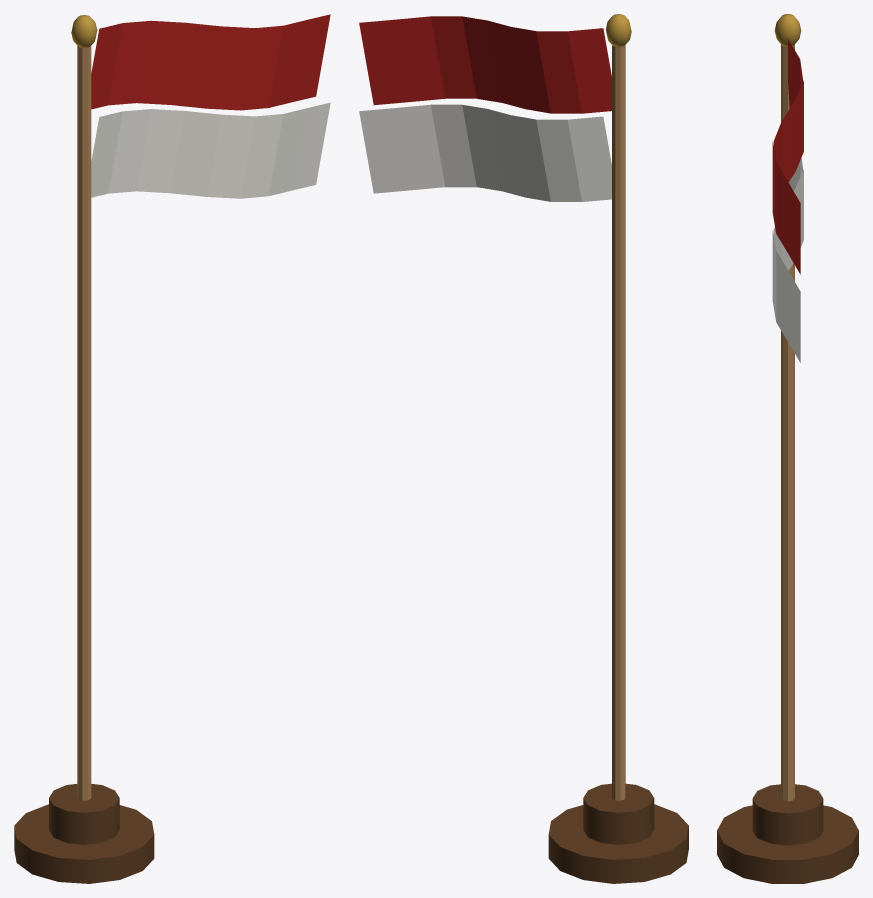
Rendered from flag_stand.glb.
3 views of the same model, side by side, from view 1: azimuth 30°, elevation 25°; view 2: azimuth 150°, elevation 25°; view 3: azimuth 270°, elevation 25° (orthographic).
Parts seen in each view (by area): view 1: FlagStand; view 2: FlagStand; view 3: FlagStand.
Part boxes in pixels (x1=…): FlagStand: x1=14, y1=14, x2=330, y2=883; FlagStand: x1=359, y1=14, x2=688, y2=883; FlagStand: x1=717, y1=14, x2=858, y2=883.
Size of the model in its own units: 0.815 by 2.09 by 0.32.
